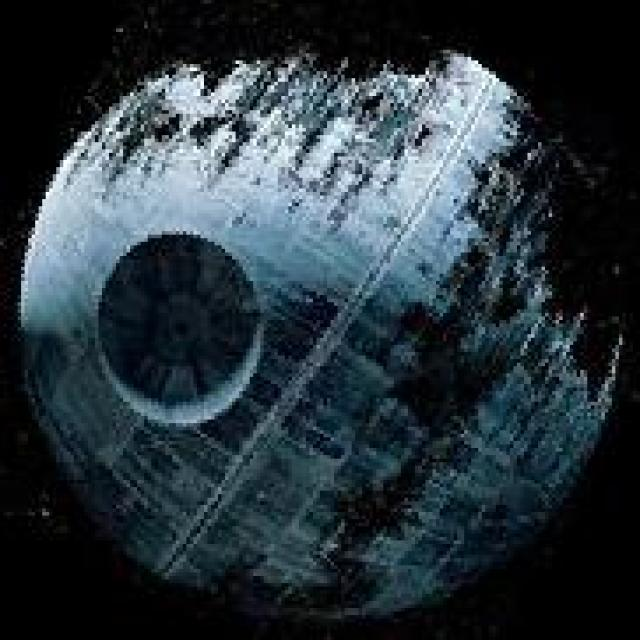Death Star: (3, 28, 630, 622)
